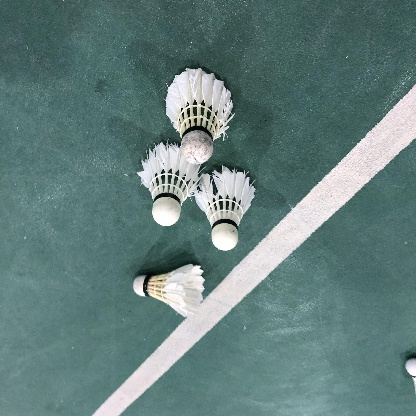ball_single: (165, 68, 233, 164), (137, 143, 203, 226), (194, 165, 256, 251), (133, 264, 205, 318), (406, 357, 416, 394)
